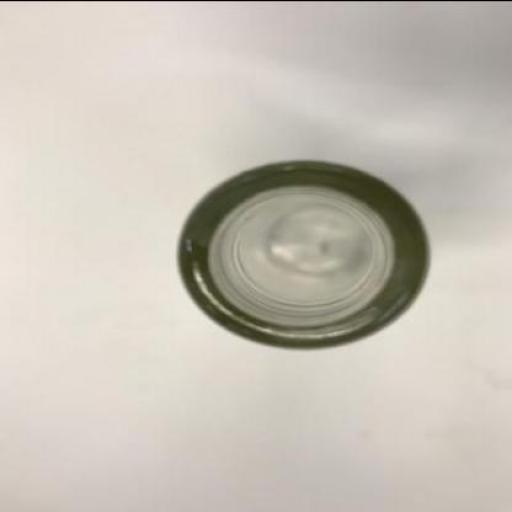glass: (176, 160, 428, 350)
